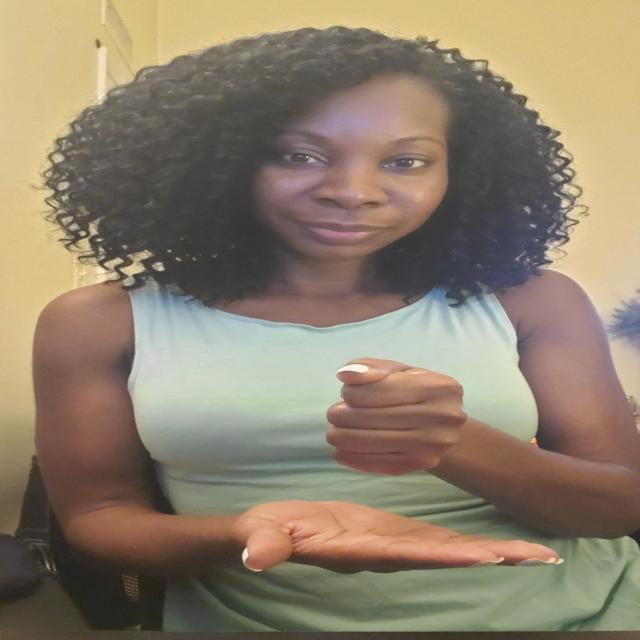Rock: (306, 356, 478, 484)
